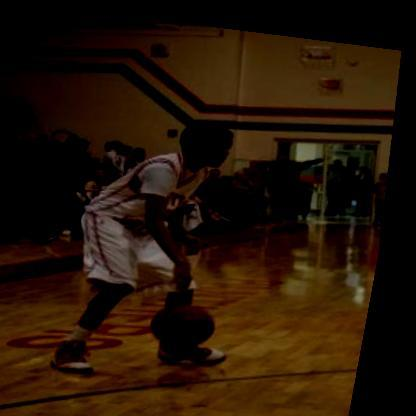basketball: (153, 284, 238, 351)
